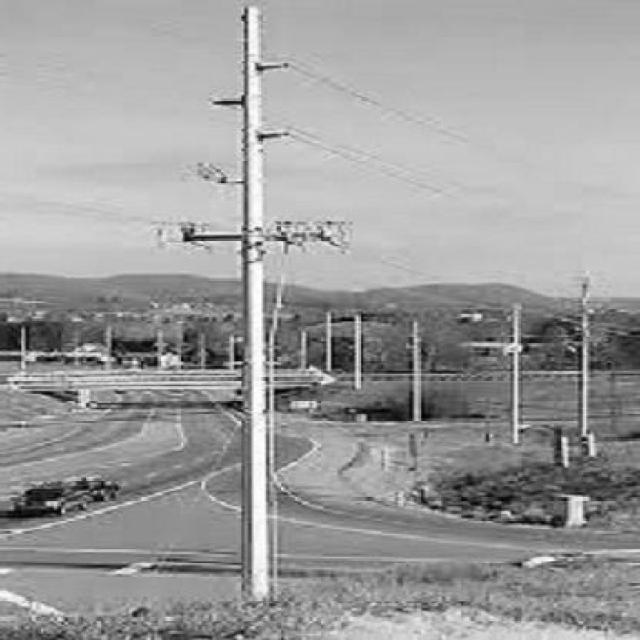Pole: (216, 2, 278, 598)
